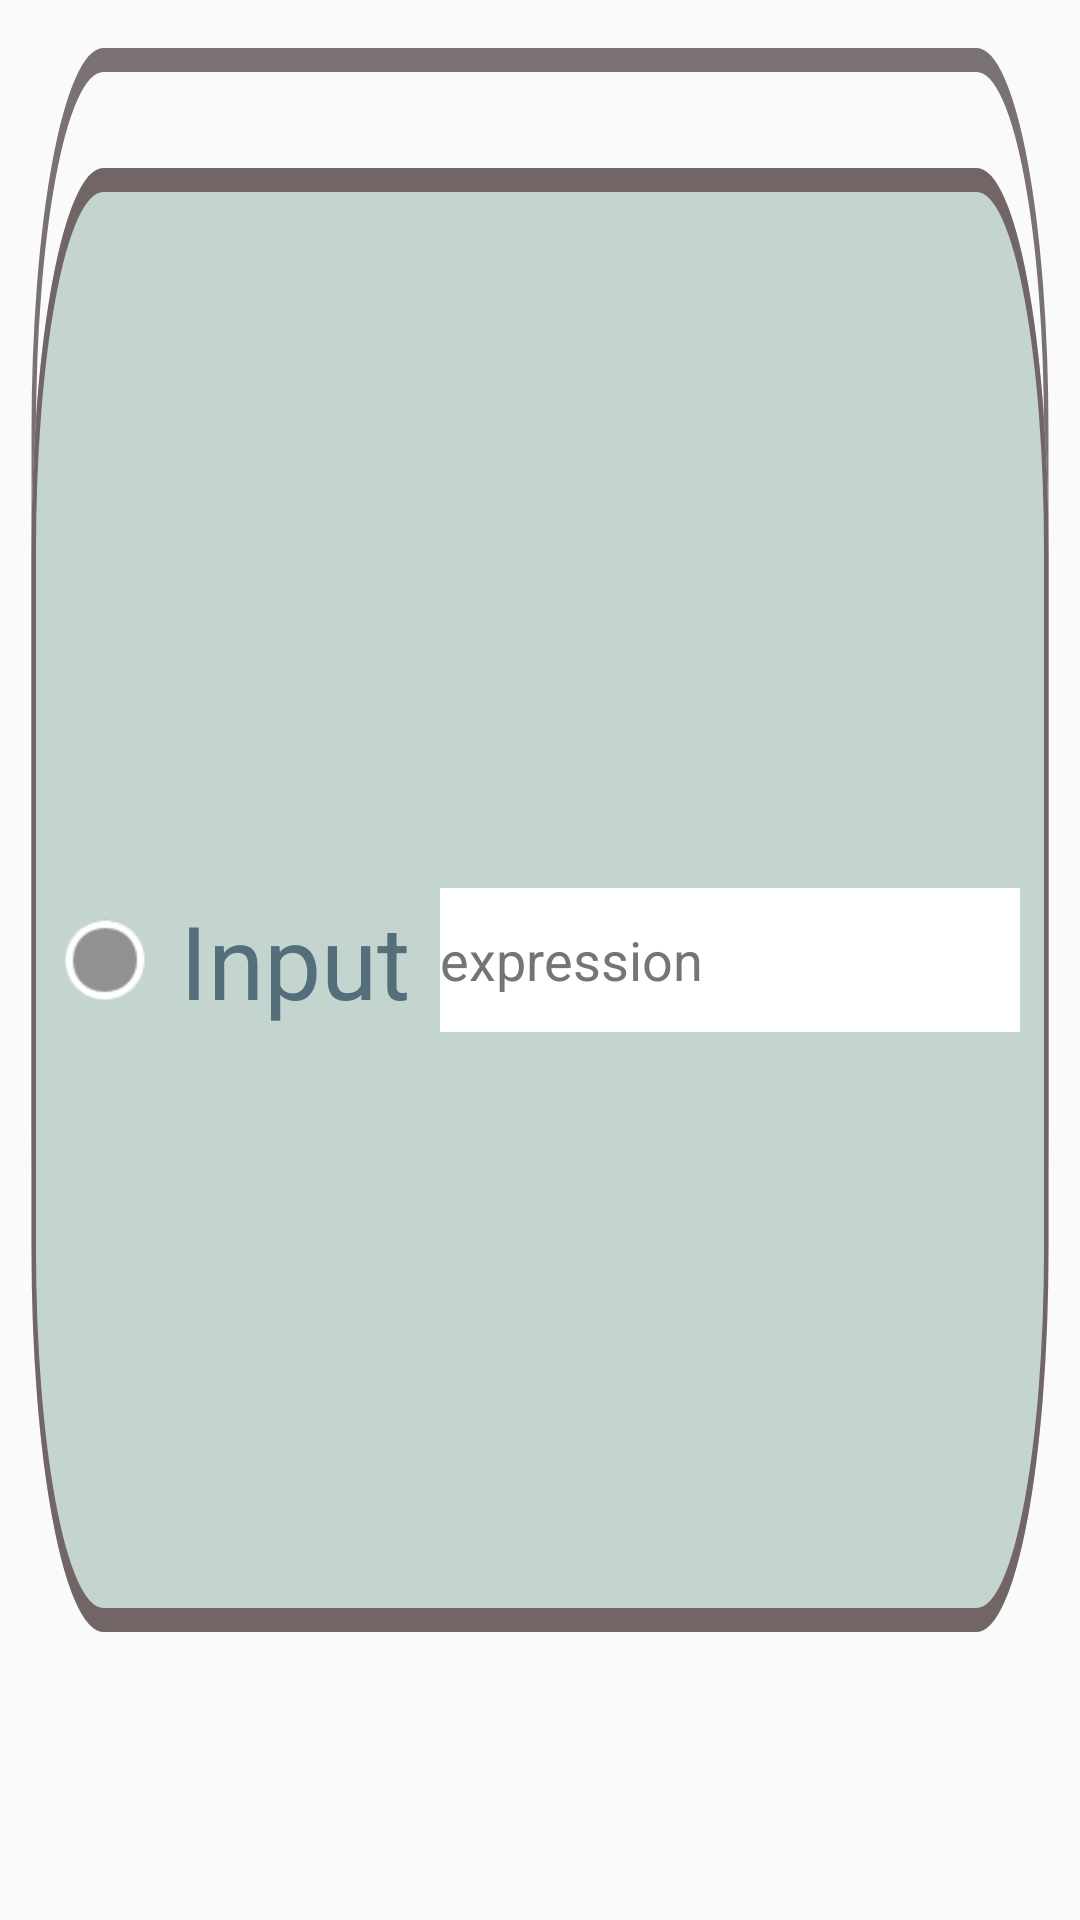

Icon bounding boxes for this 1080*1920 phone screenshot, format [x1, y1, x2, y2]:
presence invisible: [65, 921, 145, 1000]
